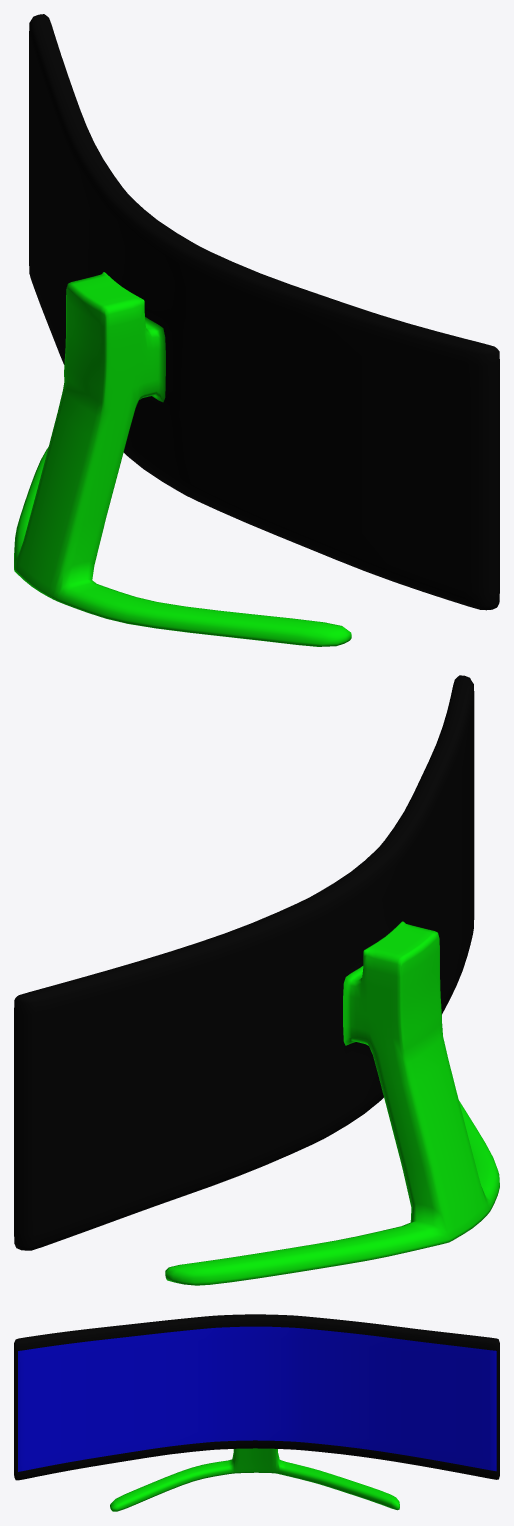
File: ComputerWScreen.fbx
3 renders of one model, top to bottom at view 1: azimuth 30°, elevation 25°; view 2: azimuth 150°, elevation 25°; view 3: azimuth 270°, elevation 25°, orthographic. The views are drawn at different scales.
Visible parts, largest first — view 1: Computer_Monitor_W_Screen; view 2: Computer_Monitor_W_Screen; view 3: Computer_Monitor_W_Screen.
Part boxes in pixels (x1,y1,x2,y2): Computer_Monitor_W_Screen: (14, 14, 499, 646); Computer_Monitor_W_Screen: (14, 675, 499, 1285); Computer_Monitor_W_Screen: (14, 1314, 499, 1511).
Bounding box in the file's own units: 175 × 239 × 566.
